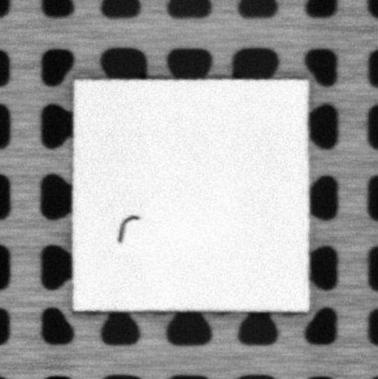DIE_INK: (116, 213, 141, 246)
